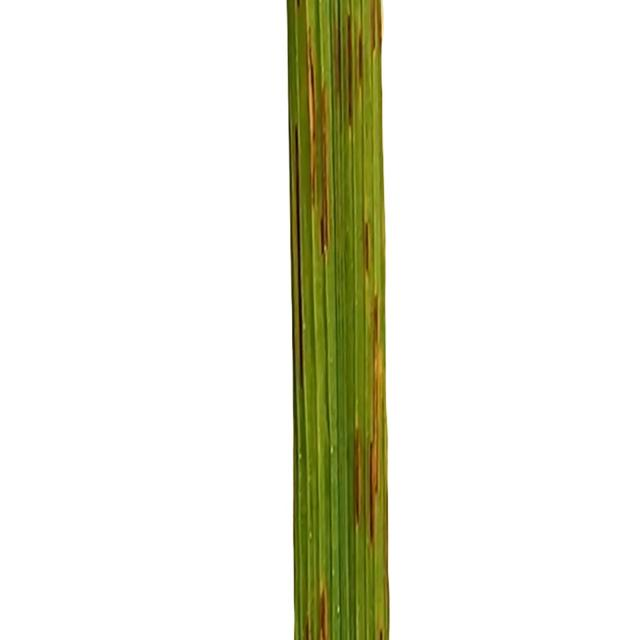Narrow brown: (202, 0, 576, 640)
